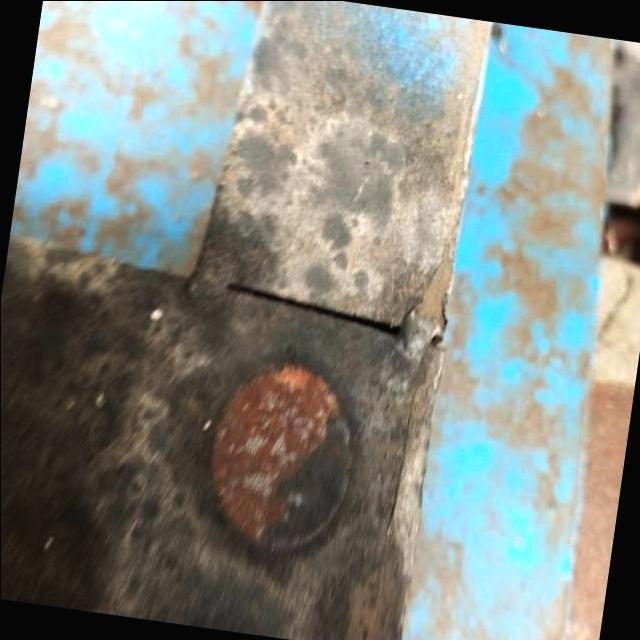defect: (223, 278, 405, 336)
